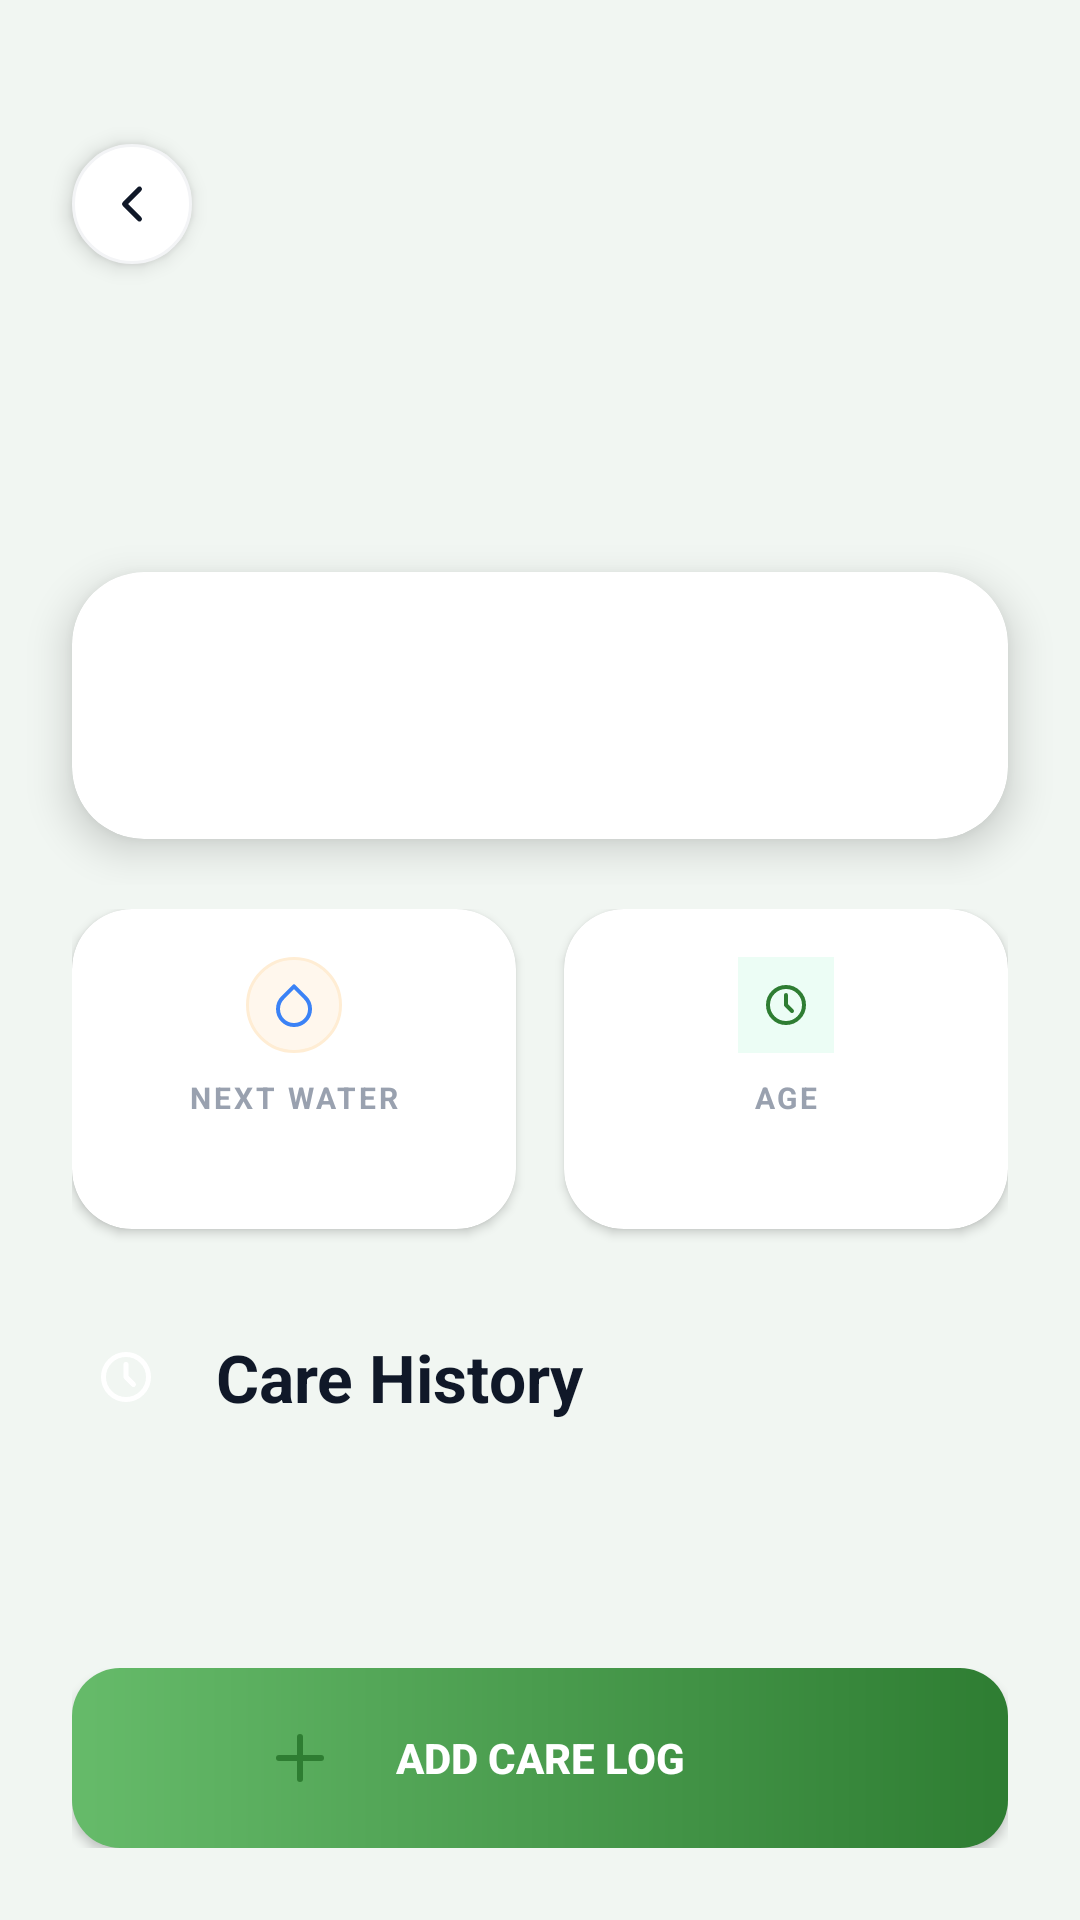

Icons on this 1080×1920 Android screen, each with its box as (x1,y1,x2,y2):
chevron left: (72,144,192,264)
clock: (738,957,834,1053)
water drop: (246,957,342,1053)
